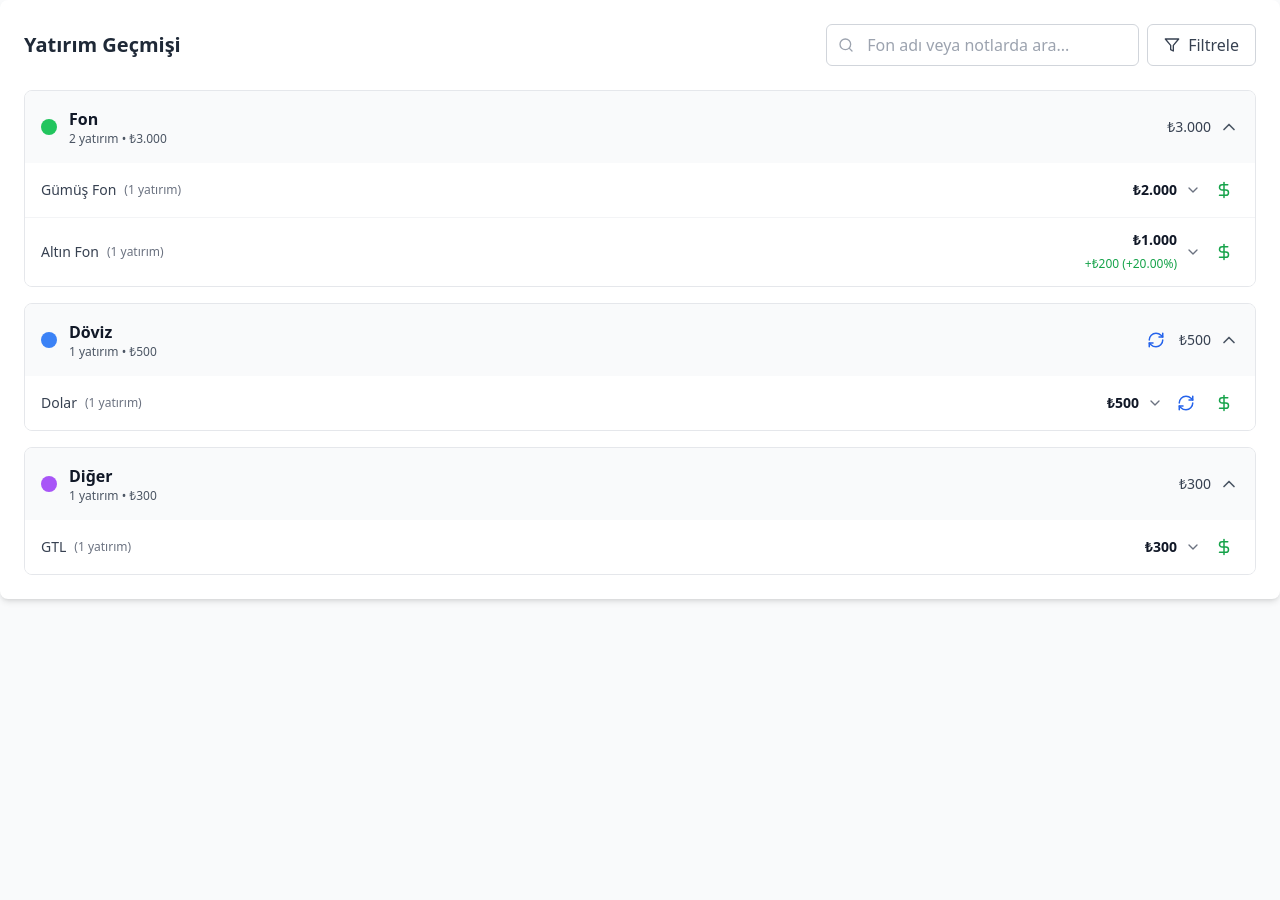
Test case: InvestmentList › Filter functionality › should filter by currency
Click the button with aria-label "filtreleri göster": (1202,45) 1147,24 -> 1256,66
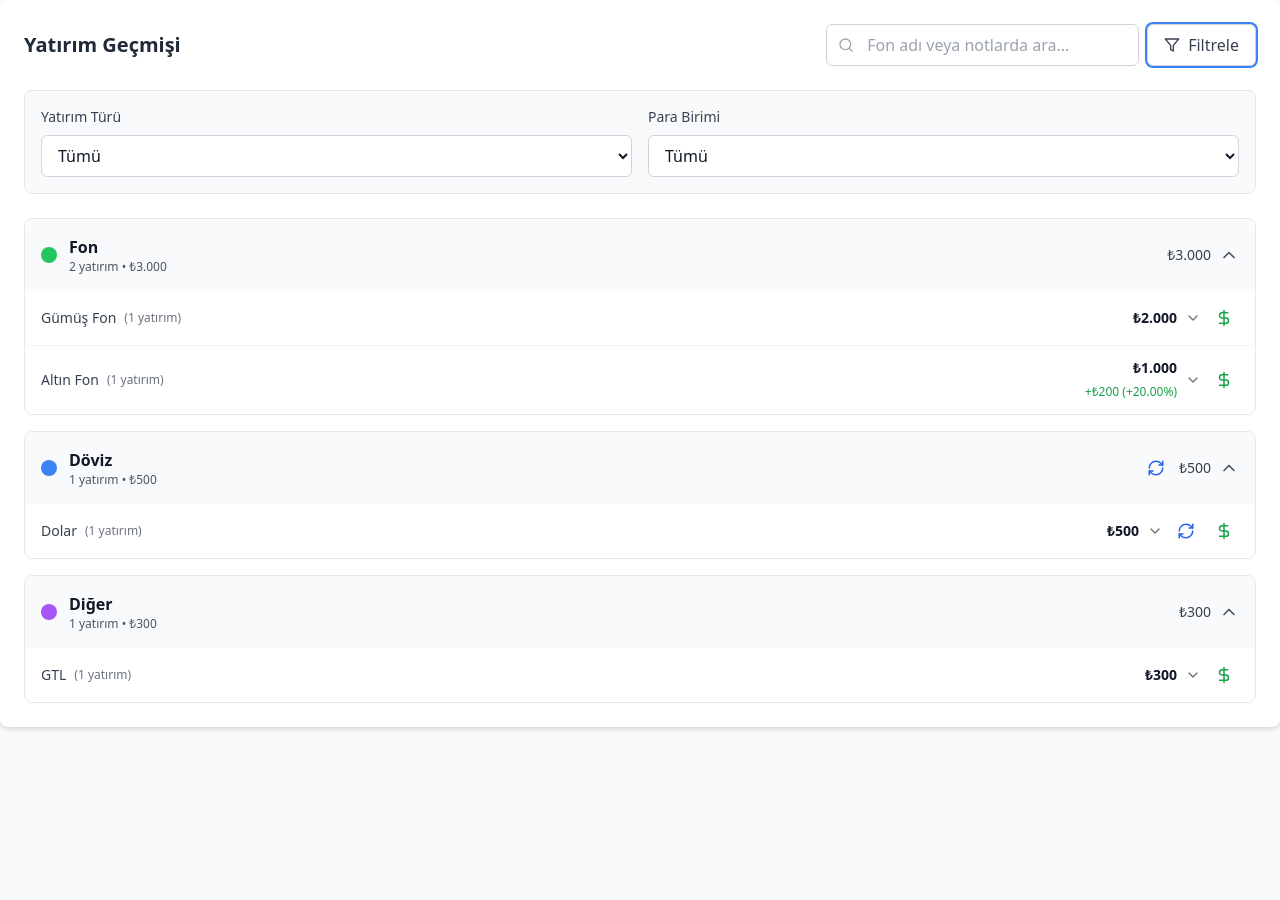
Select "USD" in the dropdown named "para birimine göre filtrele": (944,156) 648,135 -> 1239,177
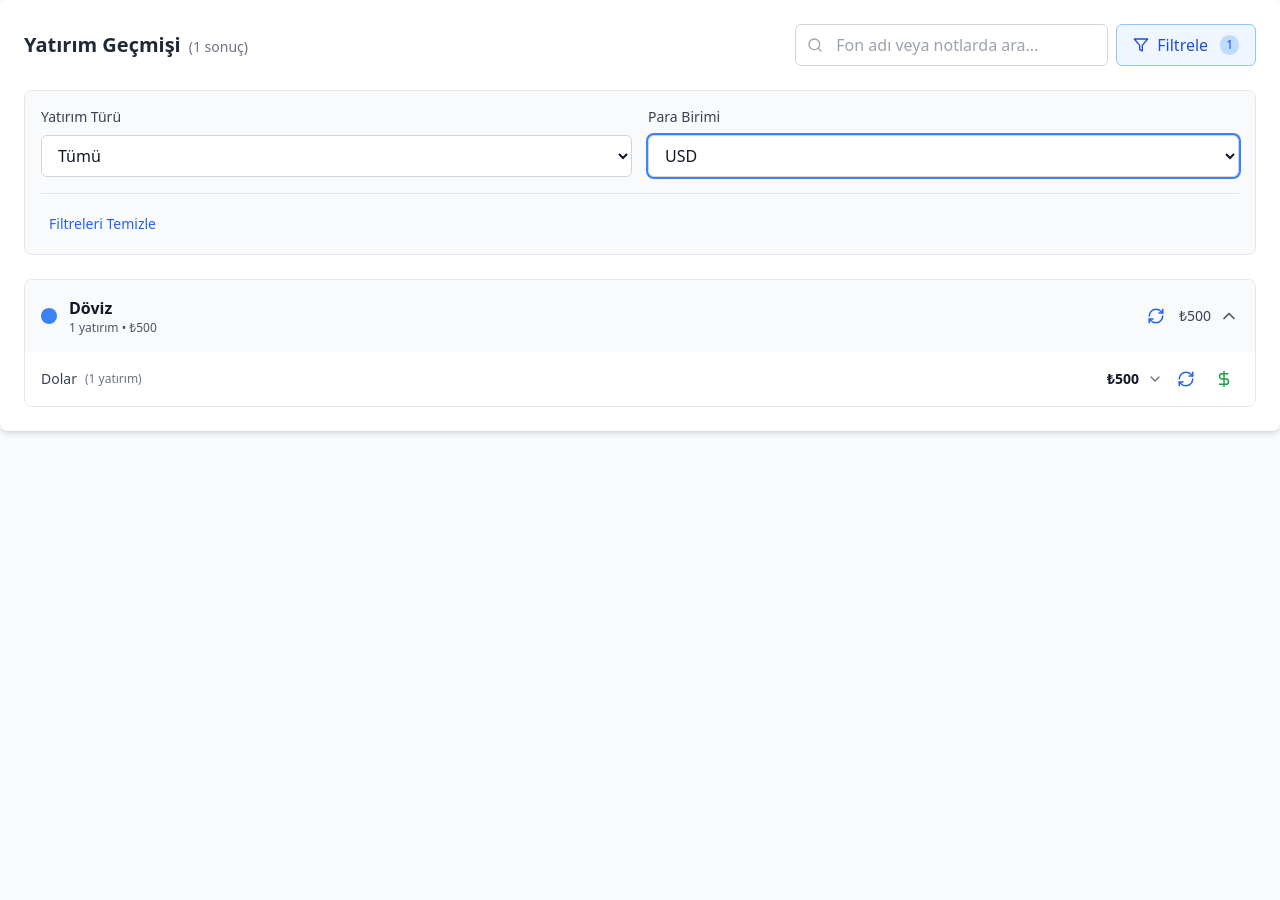
Expected: the text "(1 sonuç)" is shown, 189,37 -> 248,56
